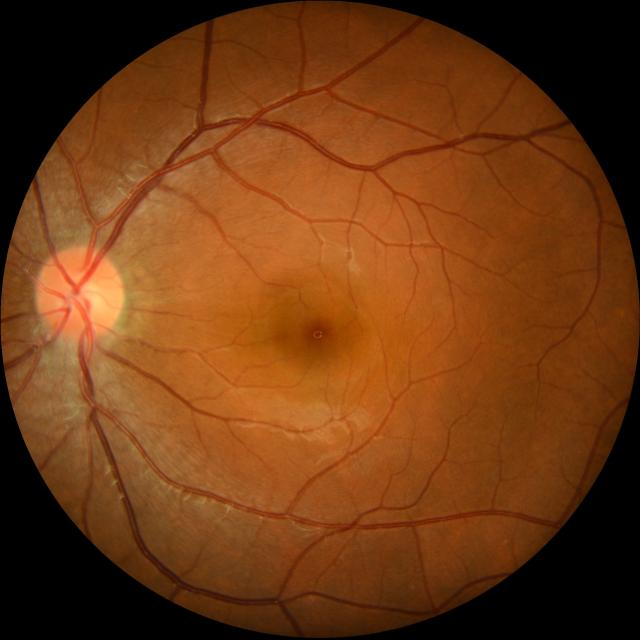OC: (65, 276, 104, 319)
OD: (34, 247, 121, 339)
